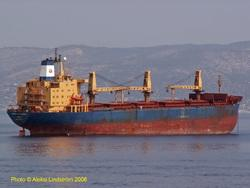Cargoship: (5, 46, 242, 139)
